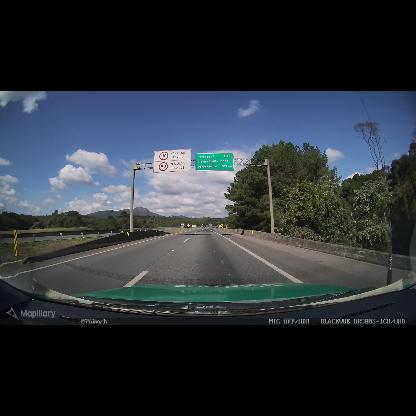O-MP: (14, 229, 18, 257)
R-19: (153, 149, 191, 173)
